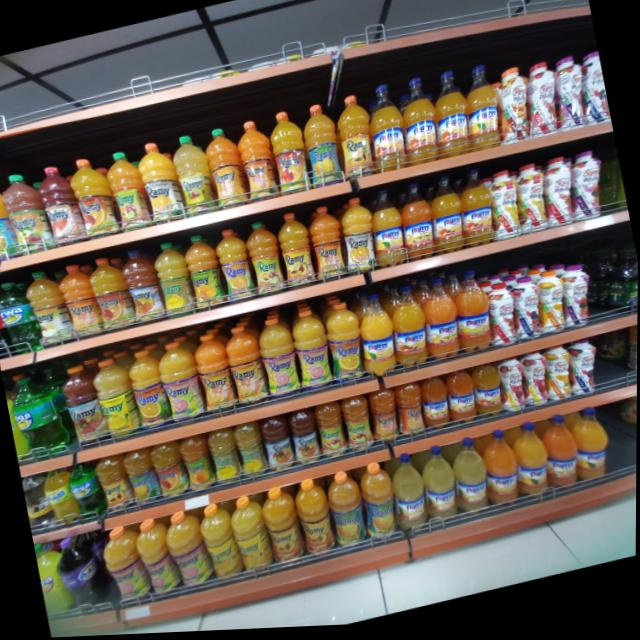arwa_plastique: (7, 370, 73, 461), (51, 532, 106, 612), (0, 276, 43, 358), (35, 541, 78, 615), (41, 466, 84, 528), (22, 470, 61, 533), (68, 461, 107, 520)
ramy_plastique: (0, 168, 56, 260), (66, 153, 121, 244), (134, 138, 189, 229), (154, 339, 208, 431), (57, 359, 112, 449), (90, 355, 143, 444), (35, 161, 88, 250), (99, 522, 155, 606), (102, 146, 154, 236), (162, 507, 217, 592), (427, 72, 478, 163), (394, 77, 444, 169), (360, 85, 410, 177), (131, 514, 185, 599), (255, 315, 305, 405), (265, 110, 315, 200), (297, 102, 347, 192), (330, 93, 379, 184), (288, 307, 338, 396), (353, 294, 402, 384), (170, 132, 220, 220), (22, 268, 74, 352), (125, 348, 173, 438), (202, 125, 251, 213), (196, 501, 247, 585), (191, 332, 239, 421), (321, 302, 370, 389), (233, 119, 282, 206), (386, 287, 434, 374), (417, 280, 465, 367), (460, 68, 508, 154), (507, 422, 556, 506), (55, 260, 105, 342), (226, 494, 276, 576), (336, 197, 384, 282), (386, 453, 434, 538), (259, 486, 308, 569), (446, 439, 495, 522), (225, 326, 272, 411), (292, 478, 340, 561), (86, 254, 135, 335), (356, 461, 403, 545), (118, 247, 166, 329), (324, 470, 371, 553), (364, 191, 411, 274), (477, 431, 524, 514), (416, 446, 463, 529), (536, 416, 584, 497), (451, 276, 498, 358), (566, 408, 614, 488), (151, 240, 198, 321), (397, 182, 442, 265), (425, 177, 470, 260), (182, 234, 228, 315), (212, 227, 258, 308), (274, 212, 319, 294), (305, 206, 350, 287), (455, 174, 501, 253), (243, 220, 288, 300), (565, 153, 612, 229), (519, 64, 564, 143), (493, 66, 535, 150), (549, 59, 593, 136), (537, 159, 582, 234), (481, 171, 524, 247), (511, 166, 554, 241), (508, 276, 550, 348), (482, 282, 524, 354), (557, 266, 600, 334), (531, 273, 572, 343), (122, 445, 165, 511), (575, 56, 612, 132), (94, 452, 137, 517), (150, 440, 192, 504), (178, 433, 219, 497), (564, 341, 604, 403), (207, 427, 246, 490), (288, 409, 327, 470), (540, 347, 579, 408), (0, 172, 25, 266), (518, 353, 556, 414), (367, 390, 405, 450), (259, 416, 296, 477), (313, 403, 350, 464), (232, 422, 269, 483), (340, 396, 377, 457), (496, 359, 533, 420), (418, 377, 455, 437), (444, 371, 481, 431), (472, 364, 506, 424), (394, 384, 427, 442)
